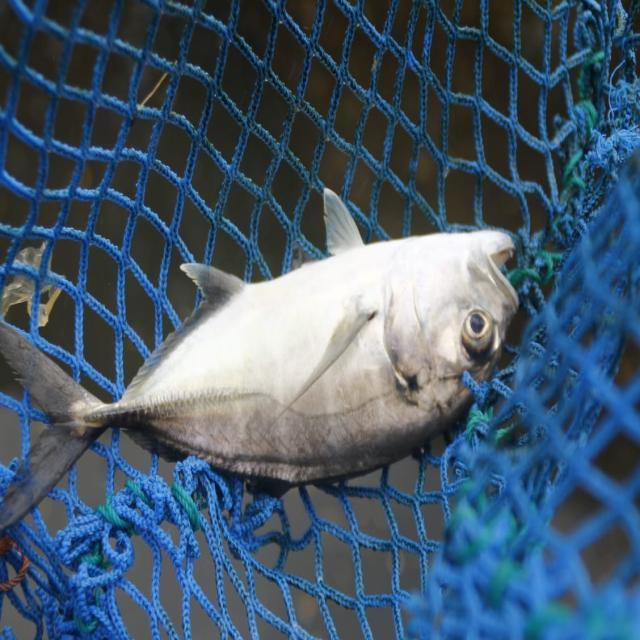ikan: (11, 202, 527, 496)
